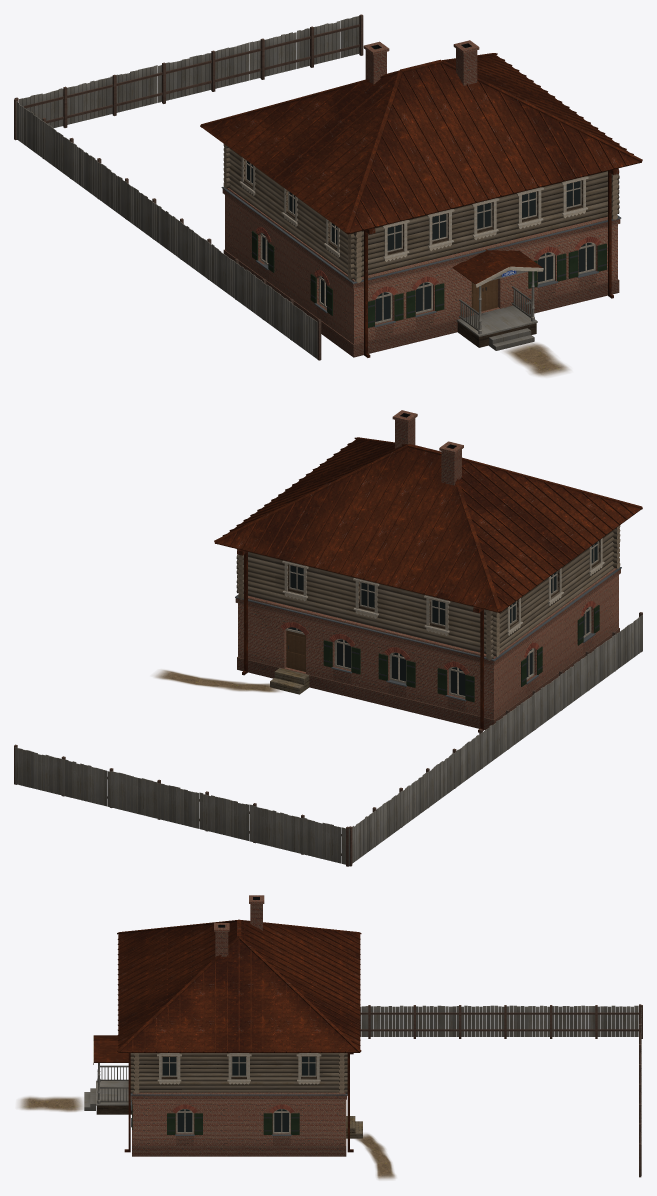
File: kontora.glb
The picture shows the model from 3 angles, top to bottom: view 1: azimuth 30°, elevation 25°; view 2: azimuth 150°, elevation 25°; view 3: azimuth 270°, elevation 25°; orthographic projection. The views are drawn at different scales.
Visible parts, largest first — view 1: kontora; view 2: kontora; view 3: kontora.
Part boxes in pixels (left/top/right/bottom): kontora: left=14, top=14, right=642, bottom=376; kontora: left=14, top=410, right=642, bottom=866; kontora: left=18, top=895, right=642, bottom=1179.
Size of the model in its own units: 17.69 by 10.88 by 32.5.
32 materials, 22 textured.
